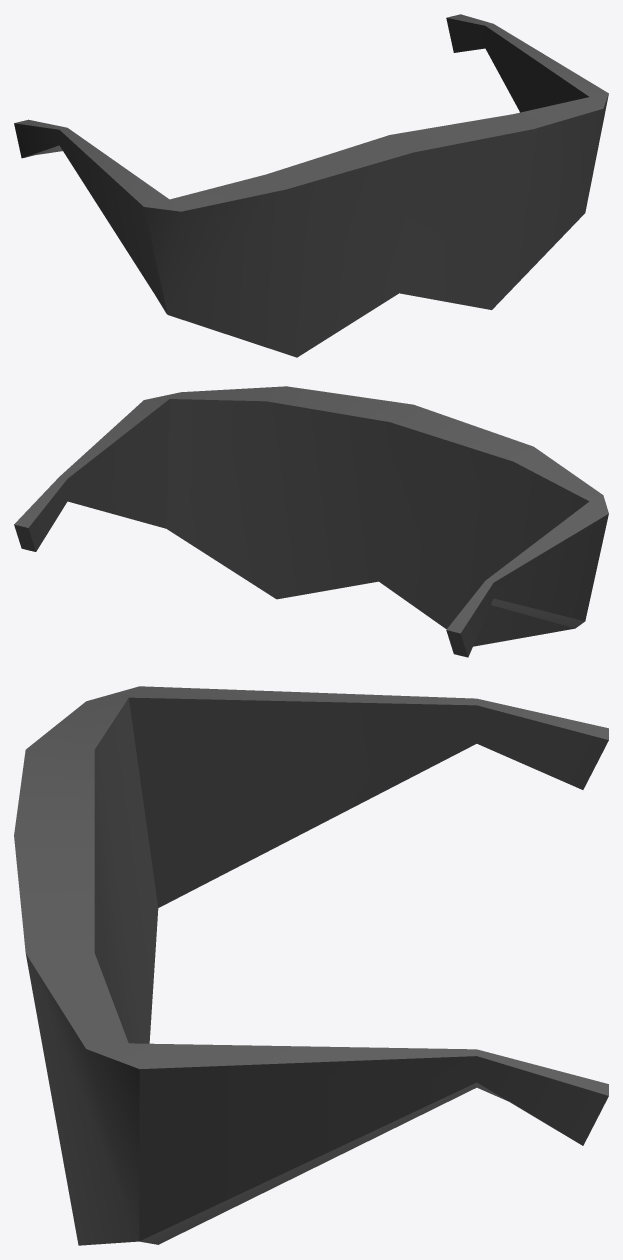
The model's file is Item_Goggles01.FBX.
The picture shows the model from 3 angles, top to bottom: view 1: azimuth 30°, elevation 25°; view 2: azimuth 150°, elevation 25°; view 3: azimuth 270°, elevation 25°; orthographic projection. The views are drawn at different scales.
Parts seen in each view (by area): view 1: Item_Goggles01; view 2: Item_Goggles01; view 3: Item_Goggles01.
Part boxes in pixels (left/top/right/bottom): Item_Goggles01: left=14, top=14, right=608, bottom=357; Item_Goggles01: left=14, top=386, right=608, bottom=657; Item_Goggles01: left=14, top=686, right=608, bottom=1245.
Size of the model in its own units: 42.73 by 17.16 by 28.06.
